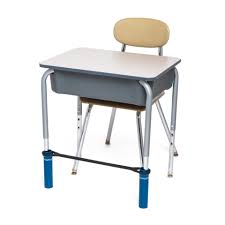desk: (38, 45, 180, 207)
